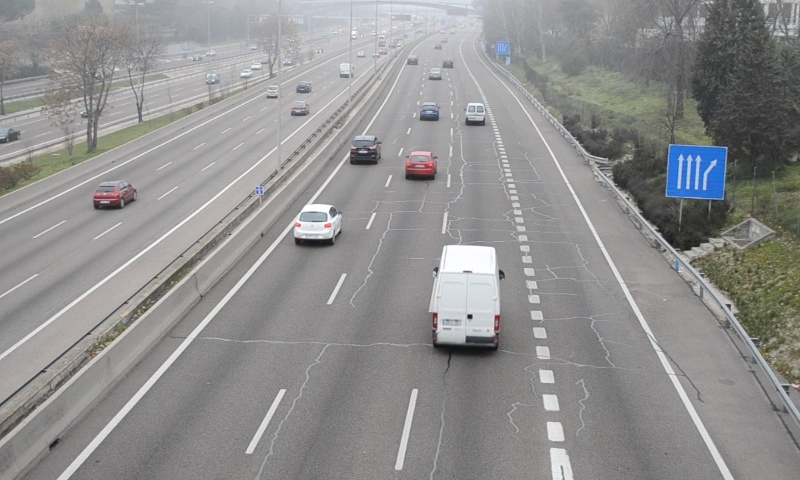car: (294, 203, 340, 240), (350, 135, 380, 164), (405, 151, 435, 180), (419, 102, 440, 120)
van: (433, 244, 501, 350), (465, 102, 486, 126)
